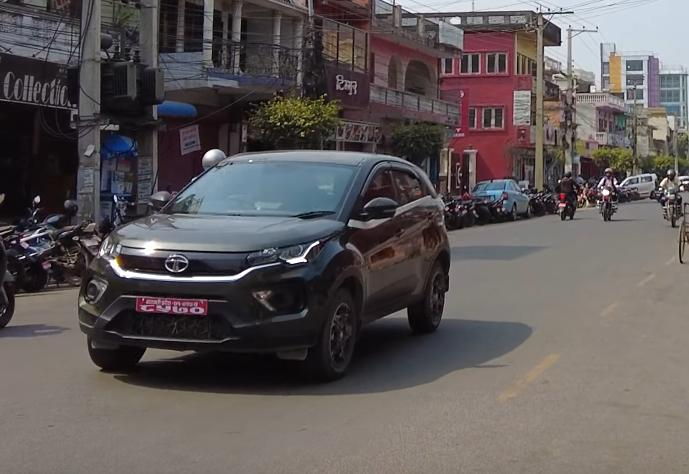bike: (659, 179, 685, 227), (554, 181, 582, 223), (596, 179, 619, 223)
car: (80, 140, 456, 375)
